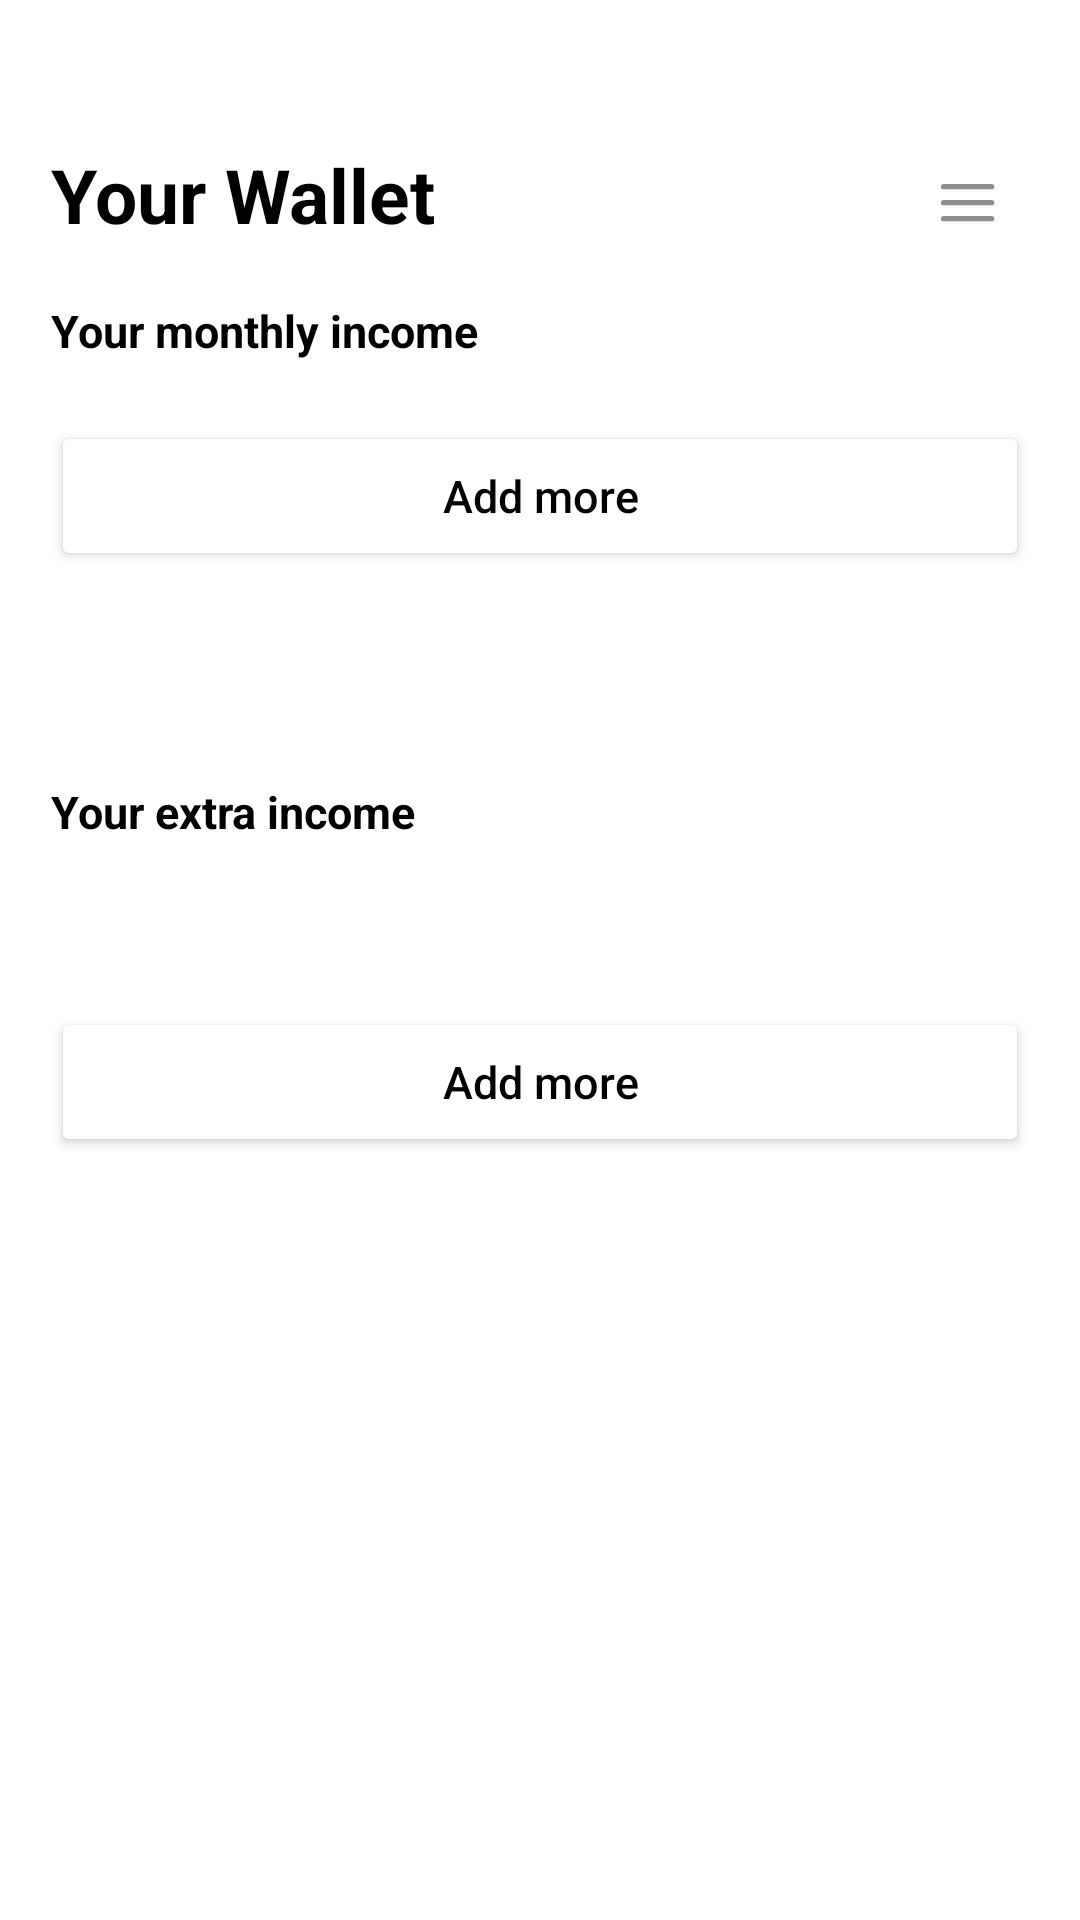

Icon click points for this 1080×1920 phone screenshot, format (x=x, y=y):
menu: (x=968, y=203)
